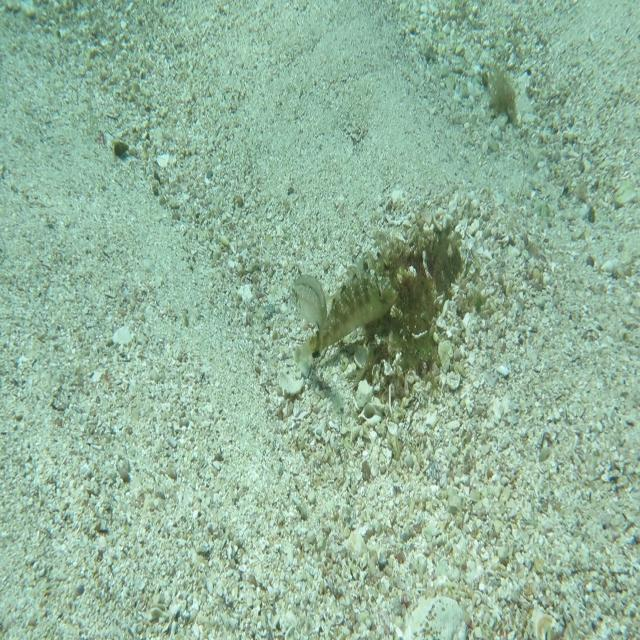BK_SW: (293, 251, 398, 374)
core_nest: (414, 240, 466, 276)
female: (290, 273, 331, 352)
nest: (359, 207, 479, 405)
